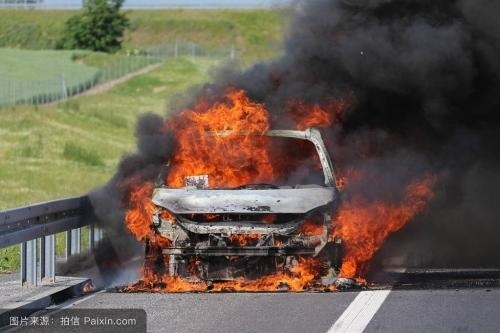fire: (105, 77, 444, 299)
